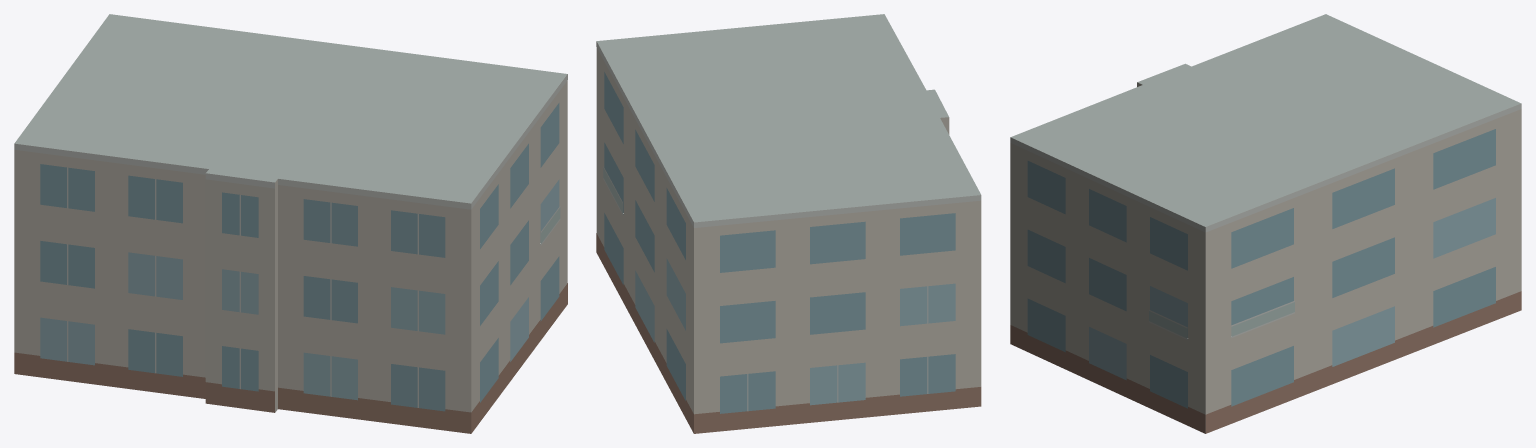
The model's file is survey-upis-32993851.glb.
The picture shows the model from 3 angles, left to right: view 1: azimuth 30°, elevation 25°; view 2: azimuth 150°, elevation 25°; view 3: azimuth 270°, elevation 25°; orthographic projection. The views are drawn at different scales.
Visible parts, largest first — view 1: survey-upis-32993851.tmp; view 2: survey-upis-32993851.tmp; view 3: survey-upis-32993851.tmp.
Boxes of the visible parts, x1,y1,x2,y2 form: survey-upis-32993851.tmp: (14,14,567,433); survey-upis-32993851.tmp: (596,14,981,433); survey-upis-32993851.tmp: (1010,14,1521,433).
Bounding box in the file's own units: 20.23 × 9.15 × 20.5.
